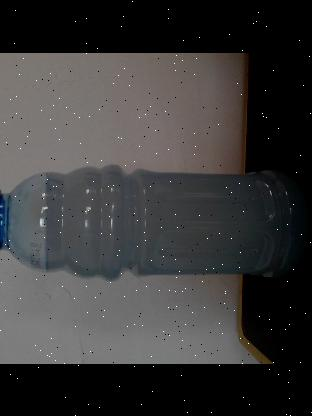Plastic Bottle: (0, 165, 309, 280)
